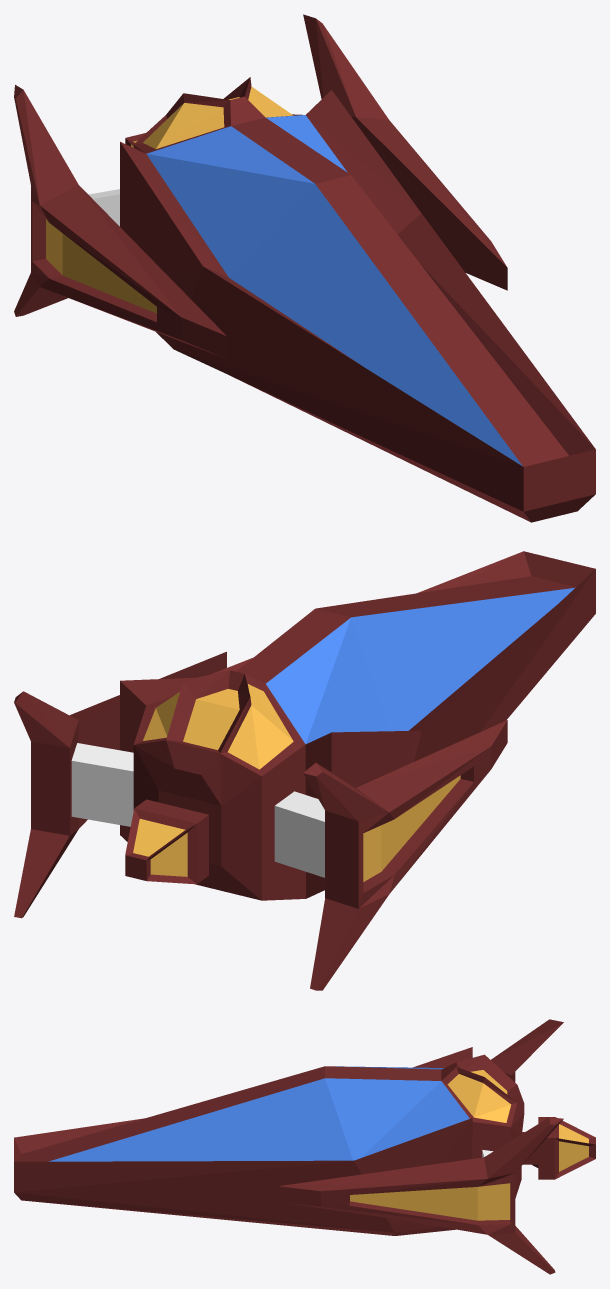
The model's file is Ship_1x2_A1.fbx.
The picture shows the model from 3 angles, top to bottom: view 1: azimuth 30°, elevation 25°; view 2: azimuth 150°, elevation 25°; view 3: azimuth 270°, elevation 25°; orthographic projection. The views are drawn at different scales.
Visible parts, largest first — view 1: Ship_1x2_A1; view 2: Ship_1x2_A1; view 3: Ship_1x2_A1.
Boxes of the visible parts, left/top/right/bottom form: Ship_1x2_A1: left=14, top=14, right=595, bottom=522; Ship_1x2_A1: left=14, top=551, right=595, bottom=990; Ship_1x2_A1: left=14, top=1019, right=595, bottom=1274.
Size of the model in its own units: 86.11 by 54.39 by 181.
